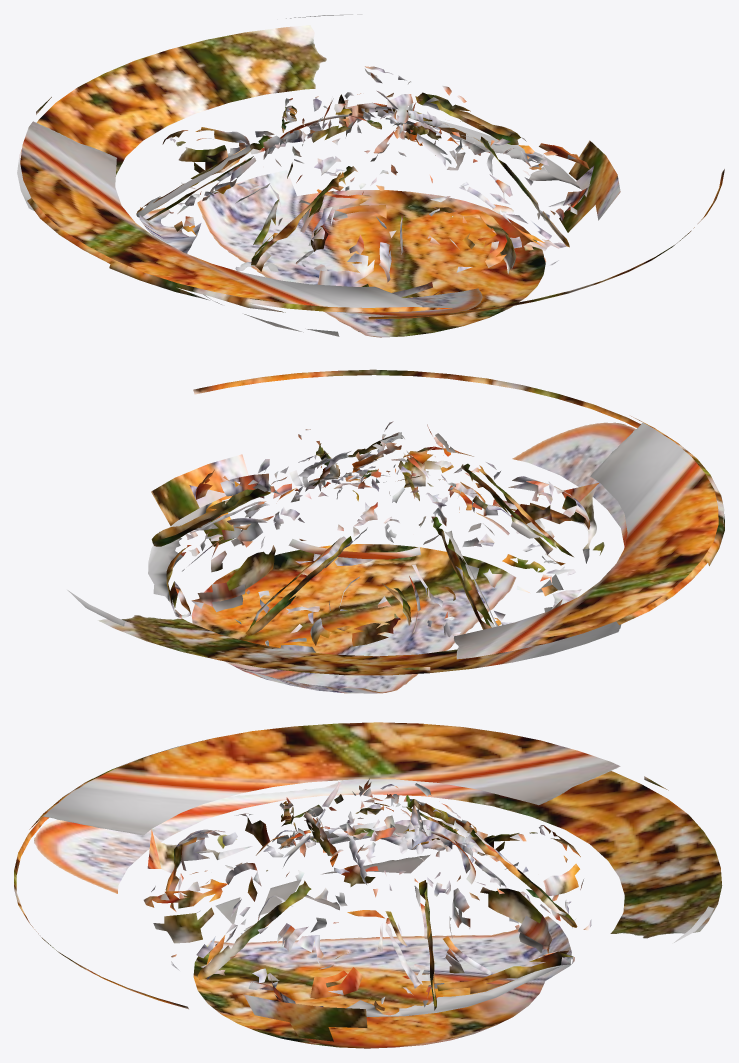
Rendered from linguini_fra_diavolo.fbx.
The picture shows the model from 3 angles, top to bottom: view 1: azimuth 30°, elevation 25°; view 2: azimuth 150°, elevation 25°; view 3: azimuth 270°, elevation 25°; orthographic projection.
Visible parts, largest first — view 1: meshes[0]; view 2: meshes[0]; view 3: meshes[0].
Part boxes in pixels (x1,y1,x2,y2): meshes[0]: [17, 14, 724, 337]; meshes[0]: [67, 369, 724, 693]; meshes[0]: [14, 722, 722, 1048].
Bounding box in the file's own units: 99.8 × 29.88 × 99.8.
